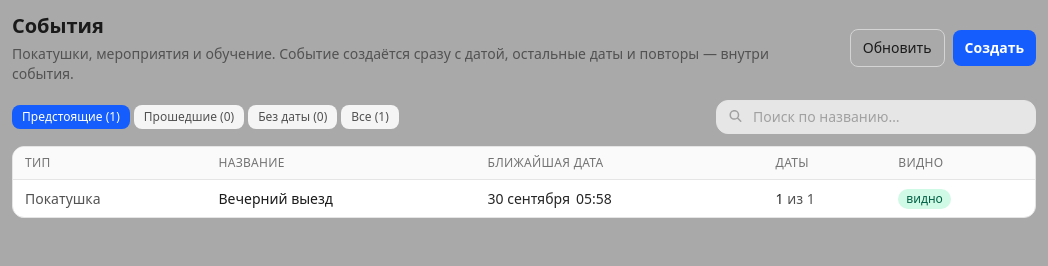
it: EventsPage › когда фильтр ничего не нашёл, отличает это от пустого списка
Expected: the text "Вечерний выезд" is shown, [206,180,476,217]
In the field with placeholder "Поиск по названию…": {"x": 876, "y": 117} [716,100,1036,134], type "нет такого"
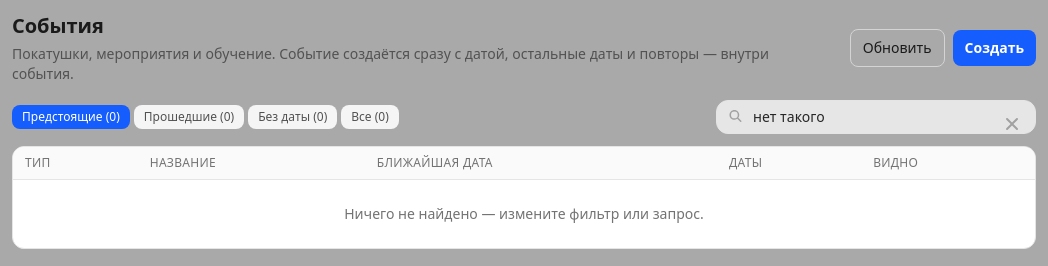
Expected: the text "Ничего не найдено — измените фильтр или запрос." is shown, [13,180,1035,248]
